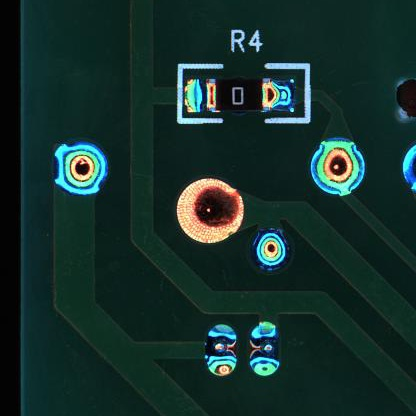spot: (307, 137, 370, 198), (54, 142, 110, 195), (202, 322, 240, 378), (247, 321, 284, 378), (250, 224, 291, 274)
